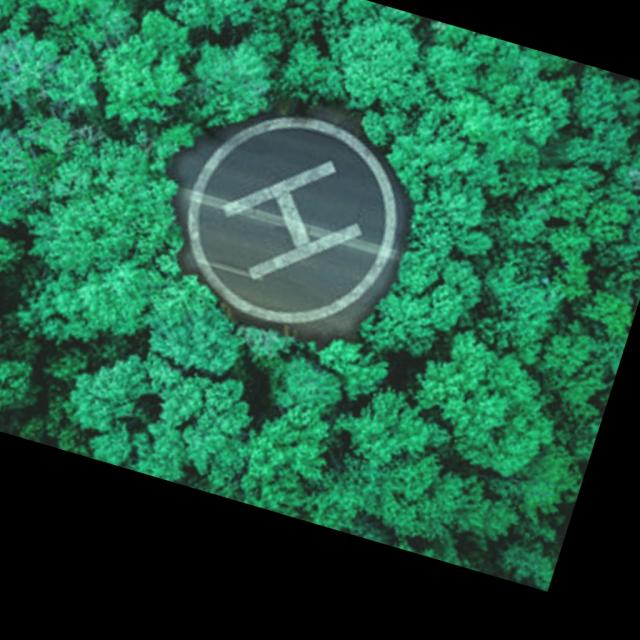helipad: (180, 110, 400, 328)
